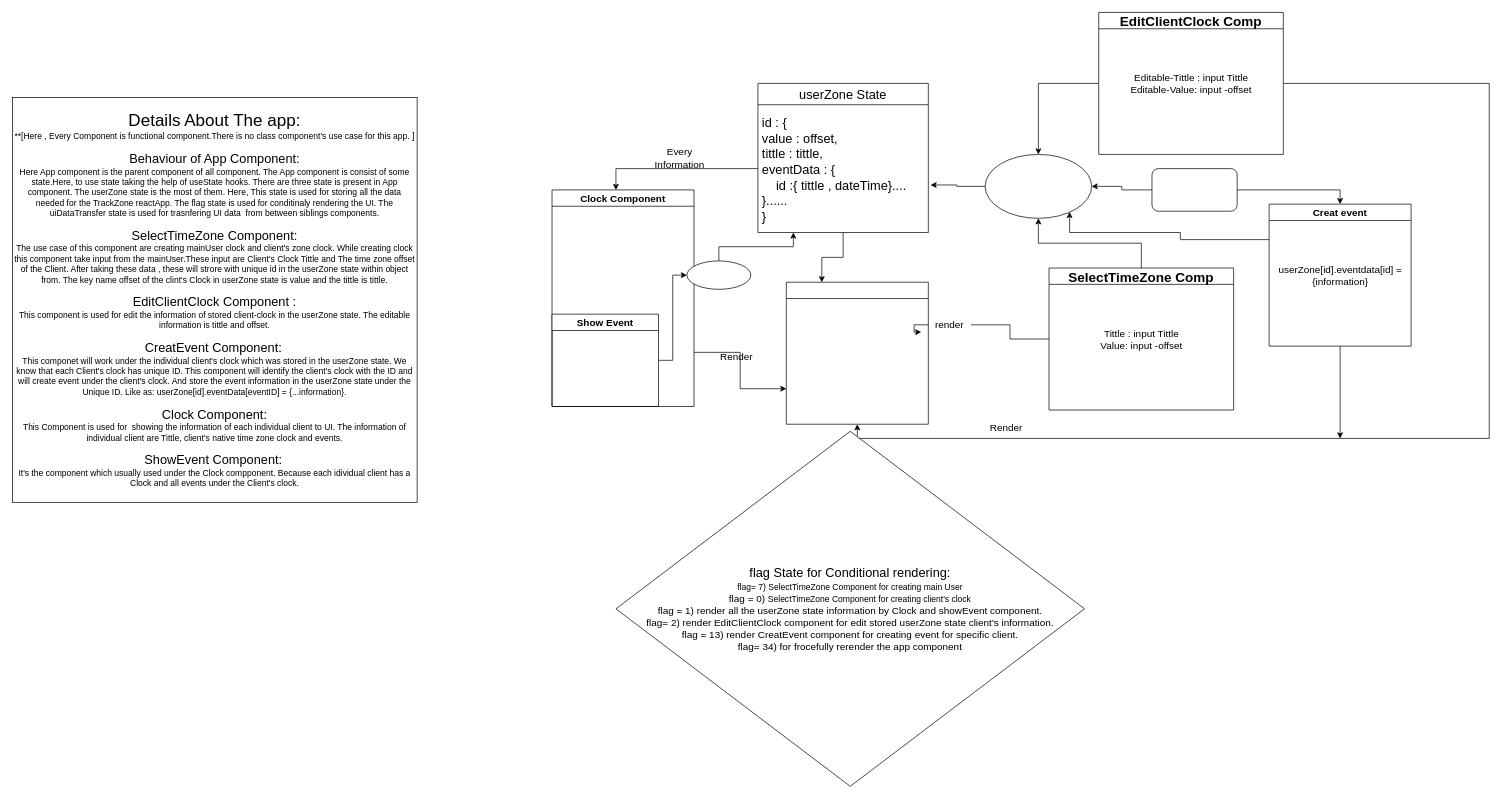
This 1507x799 diagram has some shape labels left out. Each missing label, with the centre of its shape:
"App Componet" belongs at point 857,353.
"Delete" belongs at point 718,274.
"setUserTime({ value,Tittle })" belongs at point 1038,186.
"Unique ID Generator" belongs at point 1194,189.
